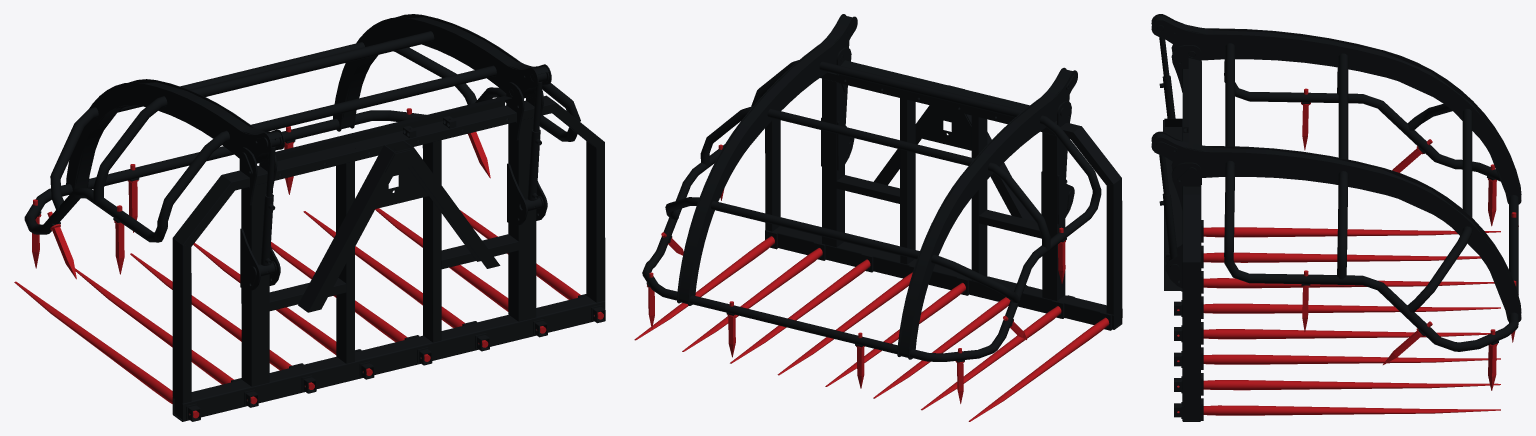
File: terra-gf1900.glb
The picture shows the model from 3 angles, left to right: view 1: azimuth 30°, elevation 25°; view 2: azimuth 150°, elevation 25°; view 3: azimuth 270°, elevation 25°; orthographic projection. The views are drawn at different scales.
Visible parts, largest first — view 1: Konstrukcja_Solid1_27, Konstrukcja_Solid1_28, Konstrukcja_Solid1_19, Konstrukcja_Solid3_1, Konstrukcja_Solid1_16, Konstrukcja_Solid1_31, Konstrukcja_Solid3, Konstrukcja_Solid1_85, Konstrukcja_Solid1_32, Konstrukcja_Solid1_7, Konstrukcja_Solid3_2, Konstrukcja_Solid1_30 (+28 smaller); view 2: Konstrukcja_Solid1_27, Konstrukcja_Solid3, Konstrukcja_Solid1_16, Konstrukcja_Solid1_19, Konstrukcja_Solid1_7, Konstrukcja_Solid3_2, Konstrukcja_Solid3_1, Konstrukcja_Solid1_9, Konstrukcja_Solid1_8, Konstrukcja_Solid1_32, Konstrukcja_Solid1_26, Konstrukcja_Solid1_31 (+23 smaller); view 3: Konstrukcja_Solid1_18, Konstrukcja_Solid1_17, Konstrukcja_Solid1_6, Konstrukcja_Solid1_7, Konstrukcja_Solid1_50, Konstrukcja_Solid3_2, Konstrukcja_Solid3, Dolne_widly_07, Dolne_widly_08, Dolne_widly_06, Dolne_widly_05, Dolne_widly_04 (+19 smaller).
Boxes of the visible parts, x1,y1,x2,y2 form: Konstrukcja_Solid1_27: [172, 295, 605, 421]; Konstrukcja_Solid1_28: [222, 95, 556, 190]; Konstrukcja_Solid1_19: [66, 82, 271, 190]; Konstrukcja_Solid3_1: [157, 65, 580, 223]; Konstrukcja_Solid1_16: [333, 17, 538, 131]; Konstrukcja_Solid1_31: [241, 183, 269, 386]; Konstrukcja_Solid3: [93, 31, 434, 203]; Konstrukcja_Solid1_85: [298, 142, 407, 312]; Konstrukcja_Solid1_32: [508, 117, 536, 321]; Konstrukcja_Solid1_7: [24, 152, 213, 242]; Konstrukcja_Solid3_2: [50, 42, 476, 212]; Konstrukcja_Solid1_30: [422, 140, 441, 342]; Konstrukcja_Solid1_27: [765, 226, 1122, 329]; Konstrukcja_Solid3: [700, 106, 1050, 249]; Konstrukcja_Solid1_16: [688, 16, 857, 305]; Konstrukcja_Solid1_19: [908, 70, 1077, 359]; Konstrukcja_Solid1_7: [794, 190, 1101, 361]; Konstrukcja_Solid3_2: [665, 197, 1020, 302]; Konstrukcja_Solid3_1: [751, 60, 1101, 191]; Konstrukcja_Solid1_9: [899, 69, 1072, 357]; Konstrukcja_Solid1_8: [678, 15, 852, 303]; Konstrukcja_Solid1_32: [822, 78, 844, 247]; Konstrukcja_Solid1_26: [839, 60, 1029, 124]; Konstrukcja_Solid1_31: [1042, 132, 1065, 300]; Konstrukcja_Solid1_18: [1151, 19, 1521, 204]; Konstrukcja_Solid1_17: [1151, 137, 1521, 321]; Konstrukcja_Solid1_6: [1224, 251, 1518, 351]; Konstrukcja_Solid1_7: [1224, 76, 1518, 253]; Konstrukcja_Solid1_50: [1182, 262, 1201, 405]; Konstrukcja_Solid3_2: [1407, 104, 1472, 312]; Konstrukcja_Solid3: [1337, 53, 1348, 279]; Dolne_widly_07: [1177, 380, 1500, 390]; Dolne_widly_08: [1177, 405, 1500, 415]; Dolne_widly_06: [1177, 354, 1500, 364]; Dolne_widly_05: [1177, 329, 1490, 339]; Dolne_widly_04: [1177, 303, 1500, 313].
Bounding box in the file's own units: 1.91 × 1.2 × 1.6.
